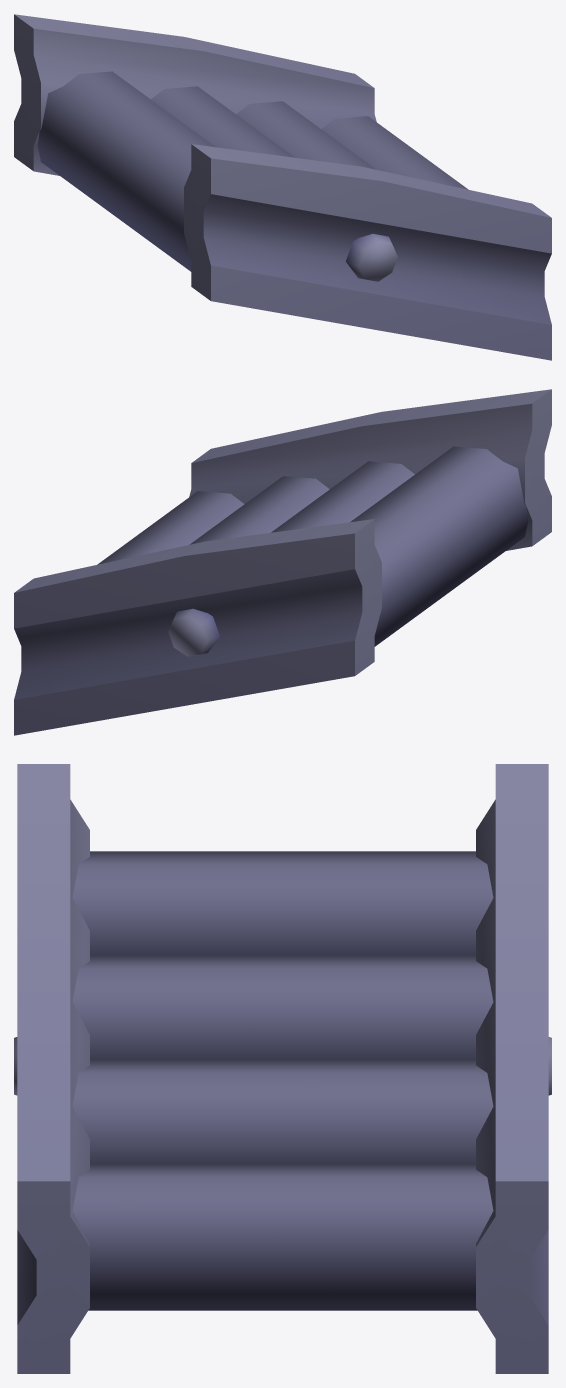
The model's file is conveyor-bars-high-slope.glb.
3 renders of one model, top to bottom at view 1: azimuth 30°, elevation 25°; view 2: azimuth 150°, elevation 25°; view 3: azimuth 270°, elevation 25°, orthographic. The views are drawn at different scales.
Visible parts, largest first — view 1: conveyor-bars-high-slope; view 2: conveyor-bars-high-slope; view 3: conveyor-bars-high-slope.
Part boxes in pixels (bbox=[...]): conveyor-bars-high-slope: bbox=[14, 14, 551, 360]; conveyor-bars-high-slope: bbox=[14, 389, 551, 735]; conveyor-bars-high-slope: bbox=[14, 764, 551, 1373].
Size of the model in its own units: 1 by 0.8 by 1.01.
